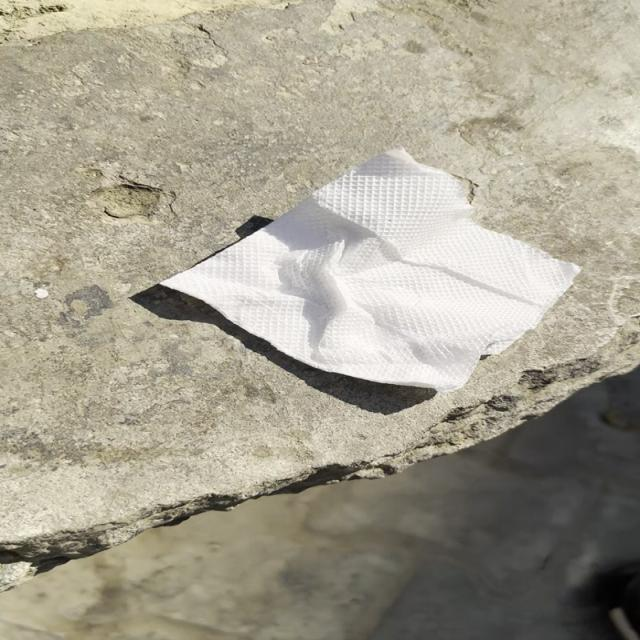tissue: (154, 146, 587, 395)
